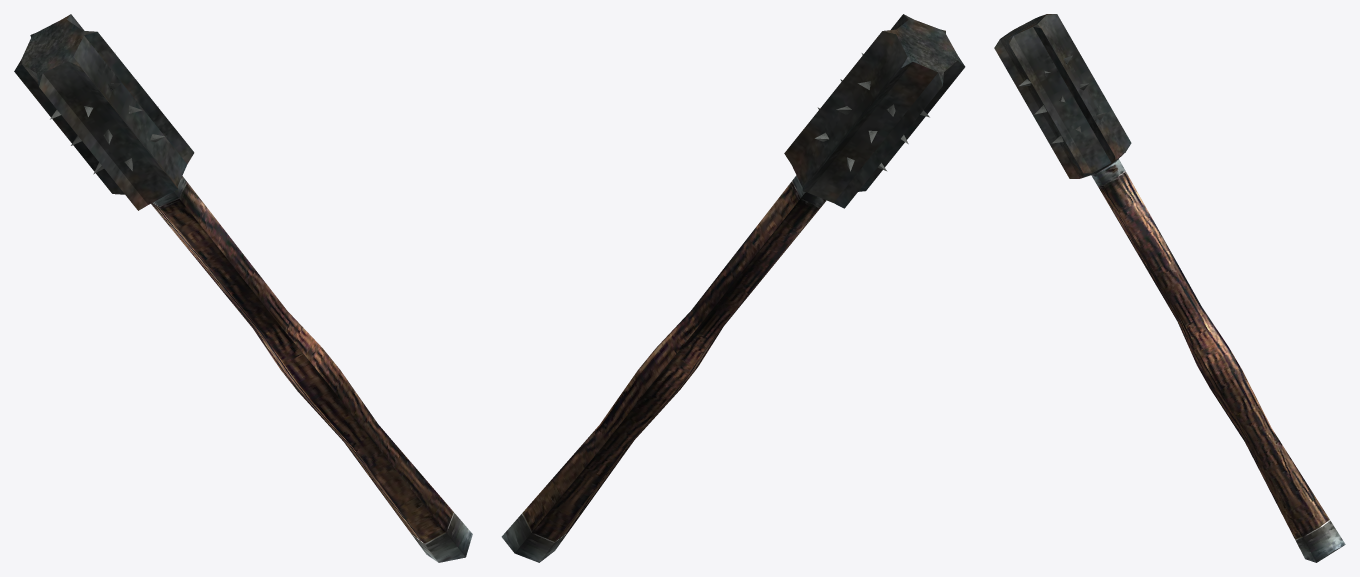
File: KM_ITMW_1H_MACE_01.glb
3 renders of one model, left to right at view 1: azimuth 30°, elevation 25°; view 2: azimuth 150°, elevation 25°; view 3: azimuth 330°, elevation 25°, orthographic. The views are drawn at different scales.
Parts seen in each view (by area): view 1: KM_ITMW_1H_MACE_01; view 2: KM_ITMW_1H_MACE_01; view 3: KM_ITMW_1H_MACE_01.
Boxes of the visible parts, x1,y1,x2,y2 form: KM_ITMW_1H_MACE_01: [14, 14, 472, 562]; KM_ITMW_1H_MACE_01: [501, 14, 965, 562]; KM_ITMW_1H_MACE_01: [994, 14, 1345, 562].
Size of the model in its own units: 0.556 by 0.7442 by 0.1029.
2 materials, 2 textured.
